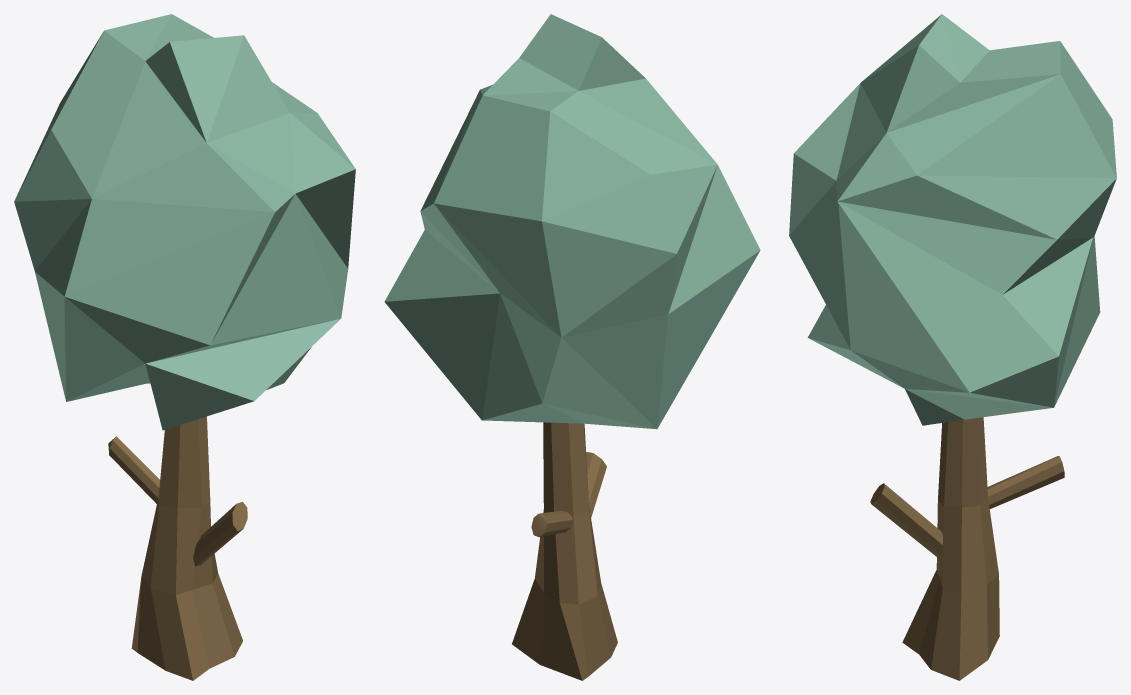
File: Tree33.fbx
3 views of the same model, side by side, from view 1: azimuth 30°, elevation 25°; view 2: azimuth 150°, elevation 25°; view 3: azimuth 270°, elevation 25° (orthographic).
Parts seen in each view (by area): view 1: pCube1, pCylinder1, pCylinder3, pCylinder2; view 2: pCube1, pCylinder1, pCylinder2, pCylinder3; view 3: pCube1, pCylinder1, pCylinder3, pCylinder2.
Part boxes in pixels (bbox=[...]): pCube1: bbox=[14, 14, 355, 430]; pCylinder1: bbox=[131, 416, 242, 680]; pCylinder3: bbox=[193, 501, 247, 566]; pCylinder2: bbox=[108, 436, 159, 503]; pCube1: bbox=[384, 14, 760, 429]; pCylinder1: bbox=[512, 422, 617, 680]; pCylinder2: bbox=[531, 511, 572, 537]; pCylinder3: bbox=[586, 452, 606, 517]; pCube1: bbox=[789, 14, 1116, 425]; pCylinder1: bbox=[902, 417, 999, 680]; pCylinder3: bbox=[870, 483, 942, 560]; pCylinder2: bbox=[987, 456, 1064, 508].
Bounding box in the file's own units: 9.32 × 17.15 × 8.13.
